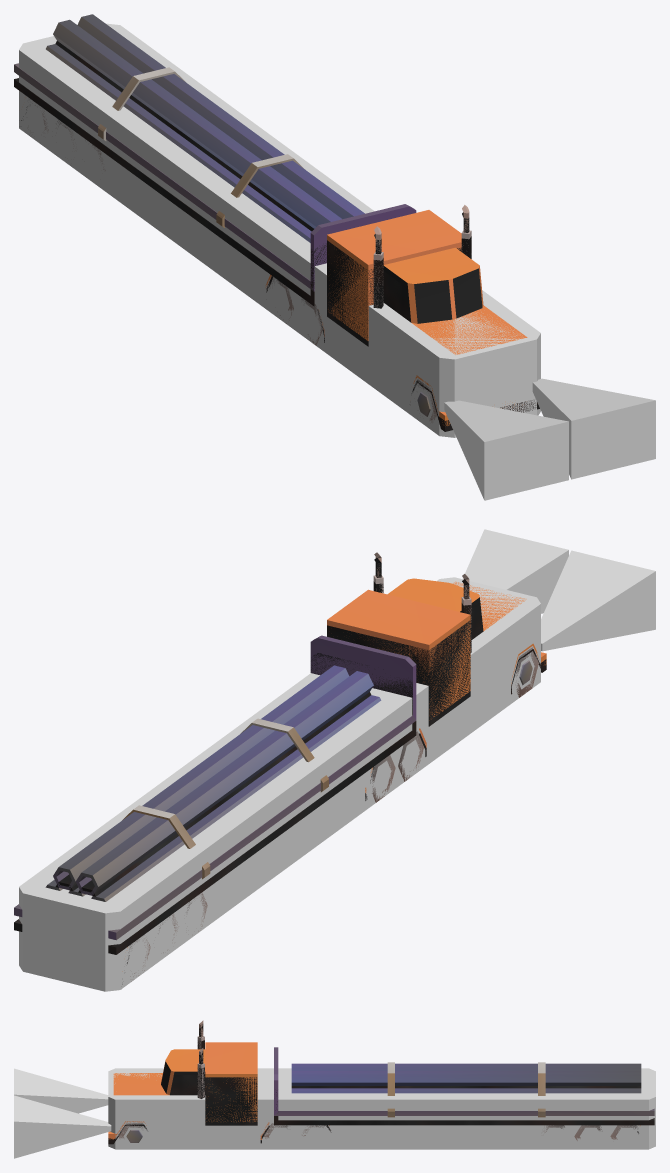
The model's file is TruckFlatbed1.fbx.
3 renders of one model, top to bottom at view 1: azimuth 30°, elevation 25°; view 2: azimuth 150°, elevation 25°; view 3: azimuth 270°, elevation 25°, orthographic. The views are drawn at different scales.
Visible parts, largest first — view 1: truck_flatbed, truck_live_cldr, truck_dead, truck_flatbed_dead, truck_pipe1_dead; view 2: truck_flatbed, truck_live_cldr, truck_dead, truck_flatbed_dead, truck_pipe1_dead; view 3: truck_live_cldr, truck_flatbed, truck_dead, truck_flatbed_dead, truck_pipe5_dead.
Boxes of the visible parts, x1,y1,x2,y2 form: truck_flatbed: (14,14,655,500); truck_live_cldr: (19,23,540,437); truck_dead: (266,212,539,431); truck_flatbed_dead: (14,78,326,306); truck_pipe1_dead: (55,41,313,231); truck_flatbed: (14,529,655,981); truck_live_cldr: (19,577,540,991); truck_dead: (327,558,546,800); truck_flatbed_dead: (14,653,416,984); truck_pipe1_dead: (78,692,371,896); truck_live_cldr: (108,1068,655,1149); truck_flatbed: (14,1020,654,1158); truck_dead: (108,1024,331,1144); truck_flatbed_dead: (274,1092,654,1133); truck_pipe5_dead: (291,1086,641,1088).
Bounding box in the file's own units: 7.09 × 6.23 × 36.24.
